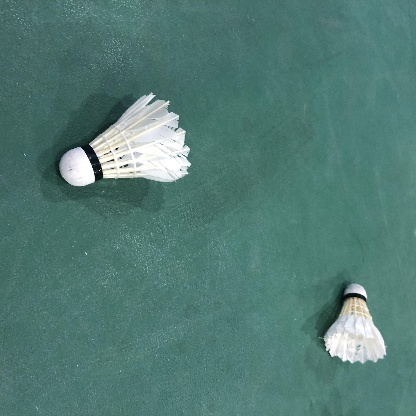ball_single: (59, 92, 191, 186), (324, 283, 386, 364)
